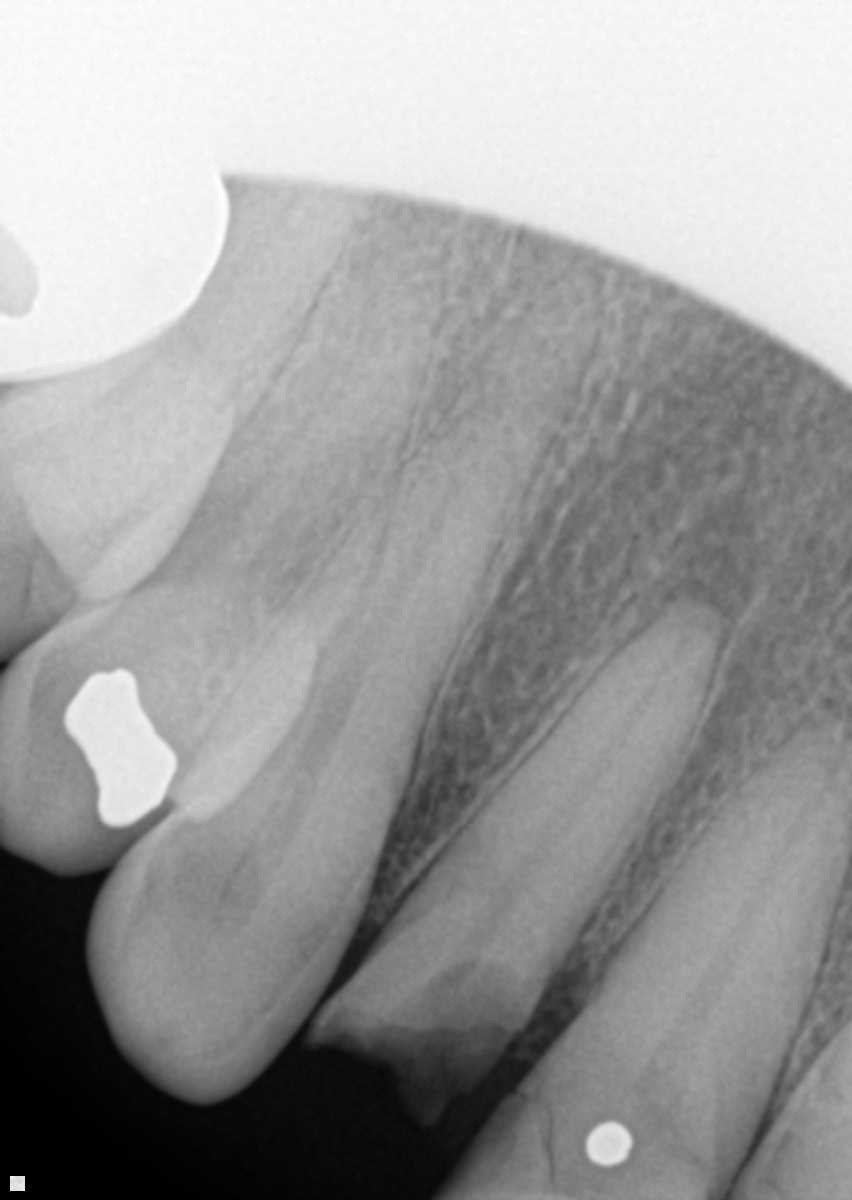Apical Lesion: (647, 501, 761, 637)
Main Canal: (245, 424, 500, 846), (456, 627, 691, 957), (655, 741, 844, 1056)
Main Root: (181, 275, 603, 866), (64, 221, 445, 677), (384, 604, 719, 990), (596, 710, 852, 1106)
decay: (369, 955, 535, 1118)
